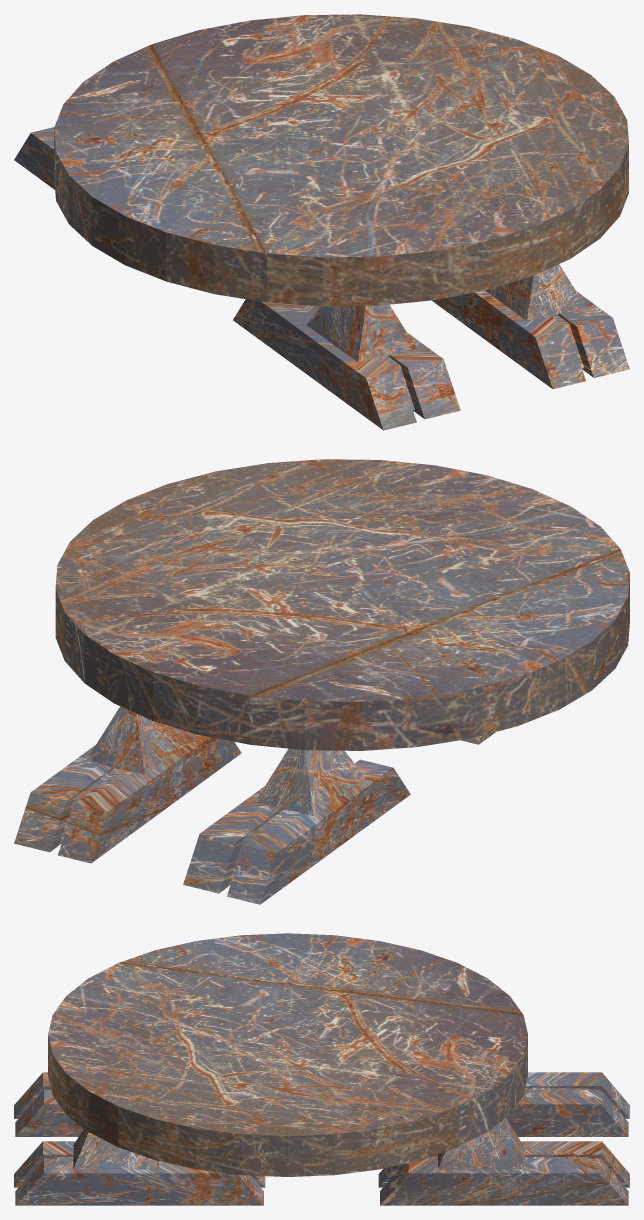
3 renders of one model, top to bottom at view 1: azimuth 30°, elevation 25°; view 2: azimuth 150°, elevation 25°; view 3: azimuth 270°, elevation 25°, orthographic. The views are drawn at different scales.
Parts seen in each view (by area): view 1: BaseInferior; view 2: BaseInferior; view 3: BaseInferior.
Part boxes in pixels (bbox=[...]): BaseInferior: bbox=[14, 14, 629, 430]; BaseInferior: bbox=[14, 459, 629, 904]; BaseInferior: bbox=[14, 933, 629, 1205].
Bounding box in the file's own units: 5.45 × 1.51 × 7.
